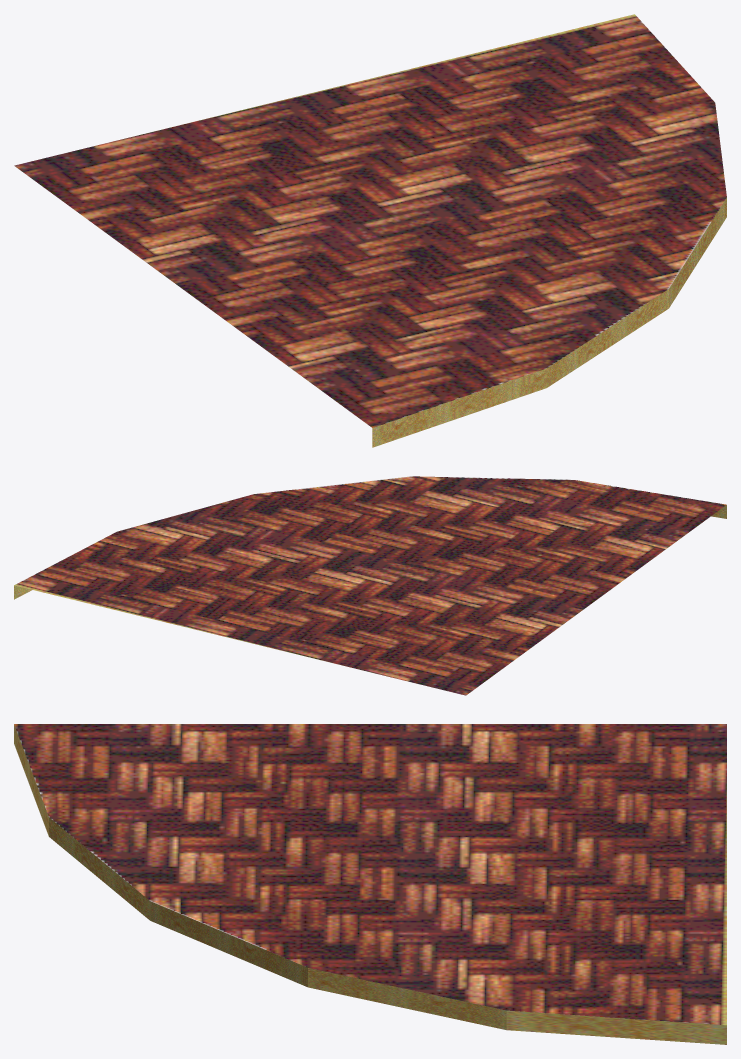
File: discoCorner.glb
3 renders of one model, top to bottom at view 1: azimuth 30°, elevation 25°; view 2: azimuth 150°, elevation 25°; view 3: azimuth 270°, elevation 25°, orthographic. The views are drawn at different scales.
Visible parts, largest first — view 1: Circle; view 2: Circle; view 3: Circle.
Boxes of the visible parts, x1,y1,x2,y2 form: Circle: [14, 14, 726, 447]; Circle: [14, 476, 726, 695]; Circle: [14, 724, 726, 1044].
Bounding box in the file's own units: 4 × 0.1215 × 4.
Materials: 1 (1 with a texture image).
